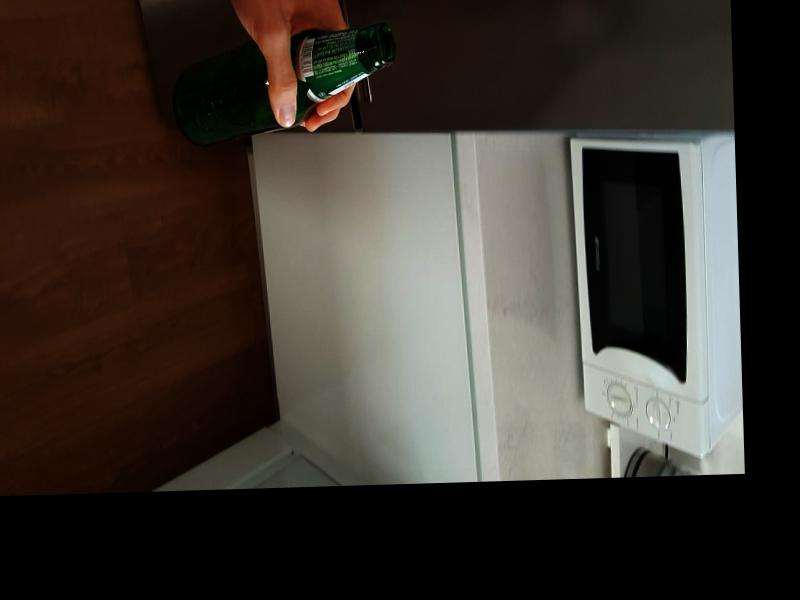Beer: (169, 22, 398, 145)
